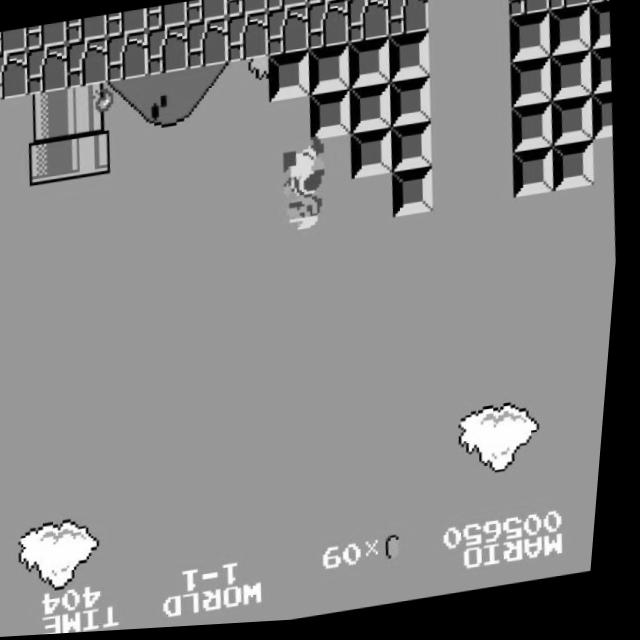14- pipe: (25, 89, 75, 141), (65, 83, 114, 135)
15- pipe_head: (67, 128, 116, 180), (27, 134, 76, 186)
17- undestructible_block: (183, 20, 233, 72), (103, 31, 153, 83), (144, 25, 193, 78), (23, 43, 72, 96), (304, 2, 353, 54), (264, 7, 313, 59), (224, 13, 273, 65), (64, 38, 113, 90), (344, 0, 393, 47), (384, 0, 433, 41), (0, 49, 33, 101), (104, 10, 149, 39), (64, 15, 109, 44), (24, 22, 69, 51), (145, 3, 189, 32), (184, 0, 229, 26), (504, 0, 553, 23), (225, 0, 269, 20), (544, 0, 593, 17), (0, 28, 29, 56), (264, 0, 309, 14), (305, 0, 349, 8), (585, 0, 612, 11), (345, 0, 389, 2)
4- fire_mario: (279, 135, 338, 236)
9- hard_block: (511, 152, 561, 205), (387, 80, 437, 132), (345, 41, 395, 93), (307, 92, 357, 144), (265, 53, 315, 105), (548, 55, 597, 108), (392, 170, 441, 223), (552, 146, 601, 198), (546, 11, 595, 63), (508, 62, 557, 114), (506, 17, 555, 69), (386, 35, 435, 87), (348, 86, 397, 138), (306, 47, 355, 99), (550, 102, 598, 153), (510, 108, 558, 159), (390, 126, 438, 177), (350, 132, 398, 183), (588, 53, 616, 102), (587, 8, 615, 57), (590, 99, 618, 147)
